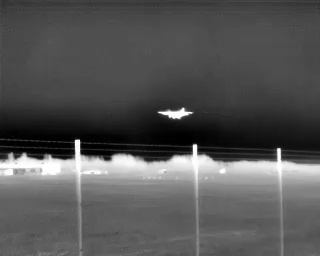AIRPLANE: (154, 105, 196, 122)
